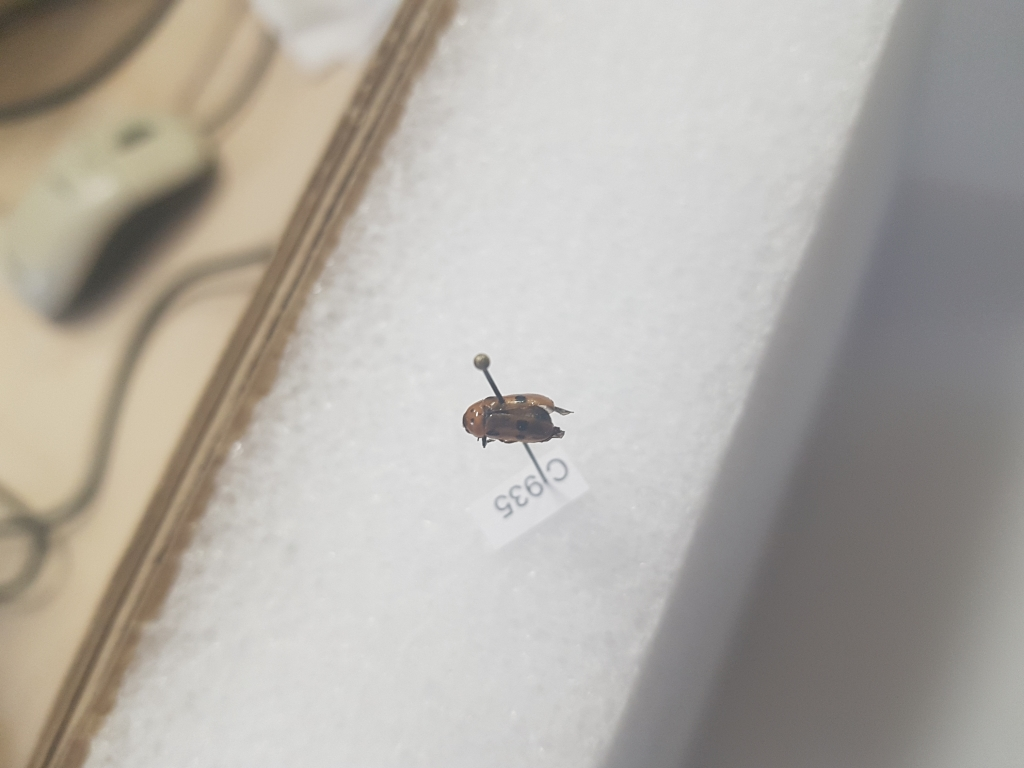Clytra_novempunctata: (457, 386, 577, 452)
